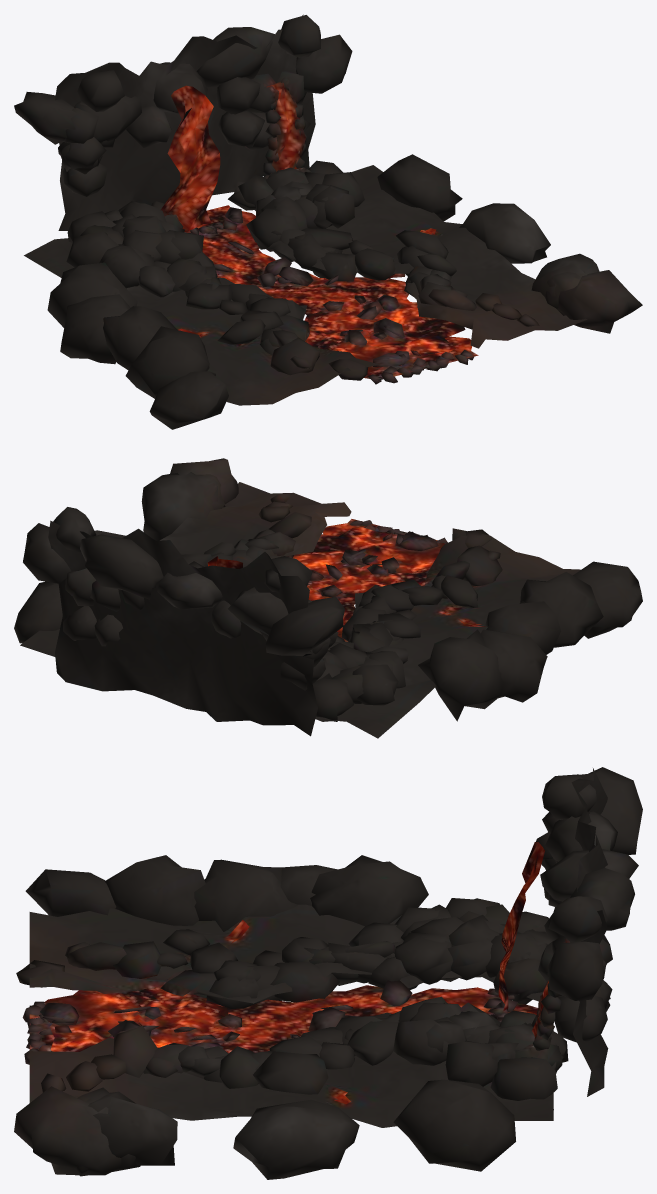
File: b4lod_magma_bank_p3.glb
3 renders of one model, top to bottom at view 1: azimuth 30°, elevation 25°; view 2: azimuth 150°, elevation 25°; view 3: azimuth 270°, elevation 25°, orthographic. The views are drawn at different scales.
Visible parts, largest first — view 1: b4lod_magma_bank_p3; view 2: b4lod_magma_bank_p3; view 3: b4lod_magma_bank_p3.
Boxes of the visible parts, x1=… form: b4lod_magma_bank_p3: x1=14, y1=14, x2=642, y2=429; b4lod_magma_bank_p3: x1=14, y1=458, x2=642, y2=738; b4lod_magma_bank_p3: x1=14, y1=767, x2=642, y2=1179.
Size of the model in its own units: 8.47 by 3.29 by 8.04.
1 material, 1 textured.
